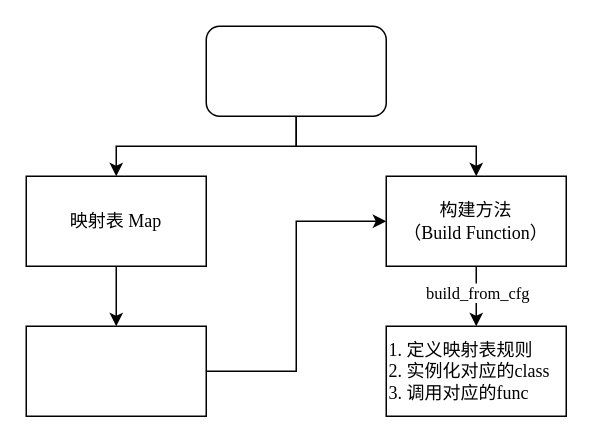
Some shapes in this 593 by 443 pixel diagram are drawn without their labels. The shapes that lost their labels are listed below. From the top down, each one's box as (x1, y1, x2, y2) in pixels, then its label:
(205, 25, 386, 116): Registry
(25, 325, 206, 416): str → class/func
